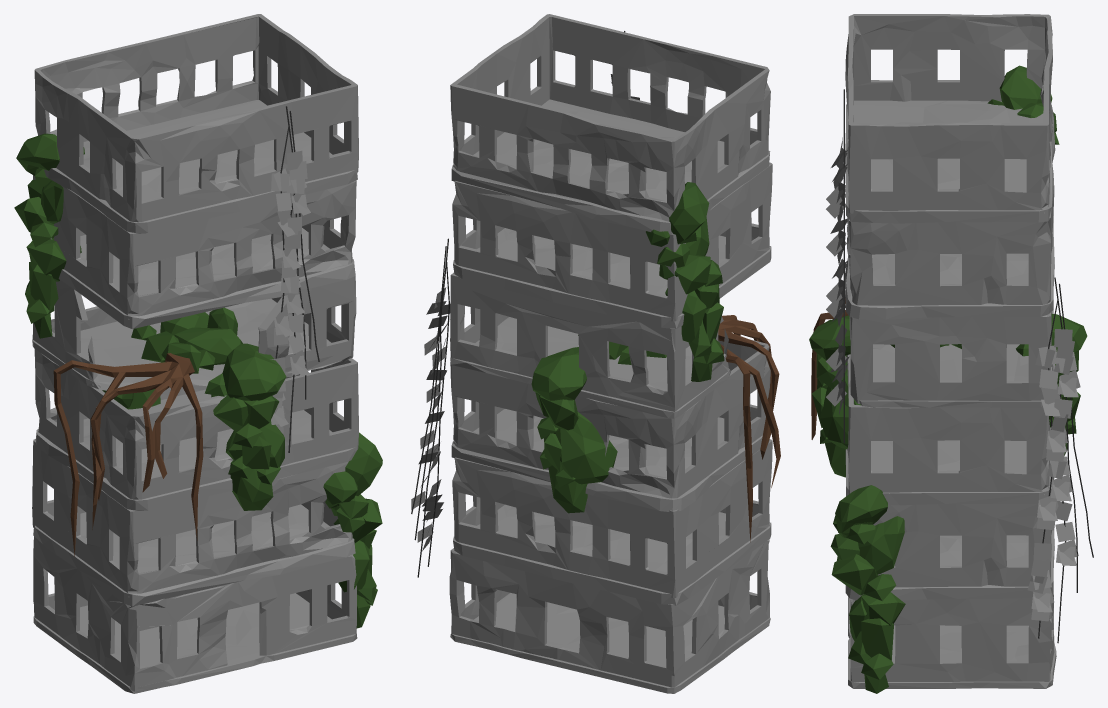
The model's file is SM_building_overgrown_01.fbx.
3 views of the same model, side by side, from view 1: azimuth 30°, elevation 25°; view 2: azimuth 150°, elevation 25°; view 3: azimuth 270°, elevation 25° (orthographic).
Visible parts, largest first — view 1: Object14225; view 2: Object14225; view 3: Object14225.
Boxes of the visible parts, box(x1,y1,x2,y2) form: Object14225: box(14, 14, 382, 693); Object14225: box(411, 14, 780, 693); Object14225: box(809, 14, 1093, 693).
Bounding box in the file's own units: 515 × 939 × 429.
